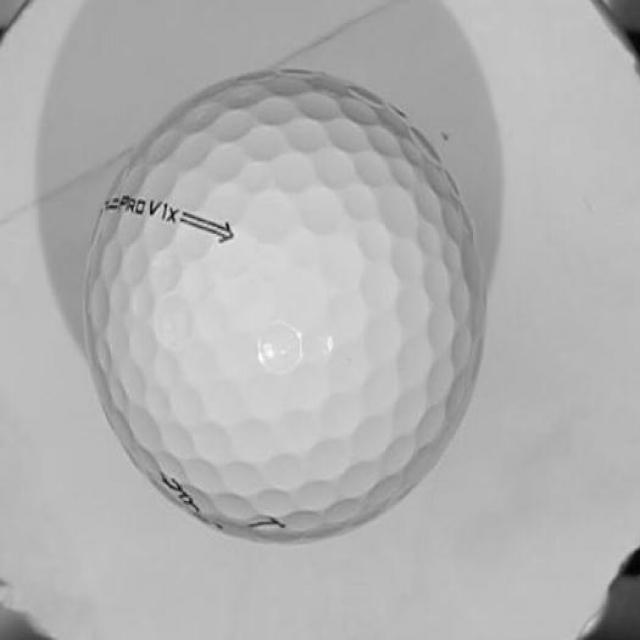golfball: (78, 83, 490, 541), (148, 197, 182, 229)
